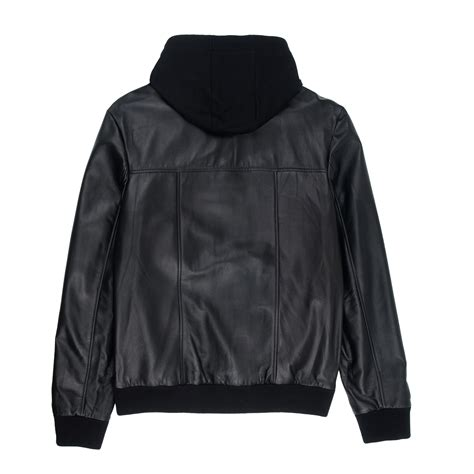cuero: (53, 84, 413, 421)
